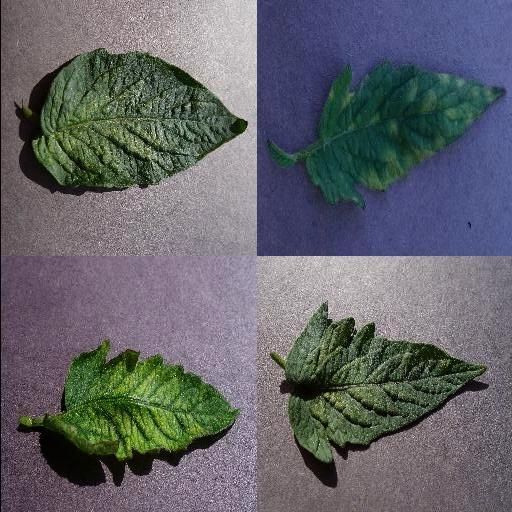Leaf Mold: (303, 59, 507, 209)
Mosaic Virus: (46, 336, 240, 460)
Spider Mites: (286, 302, 488, 466), (31, 50, 247, 193)
